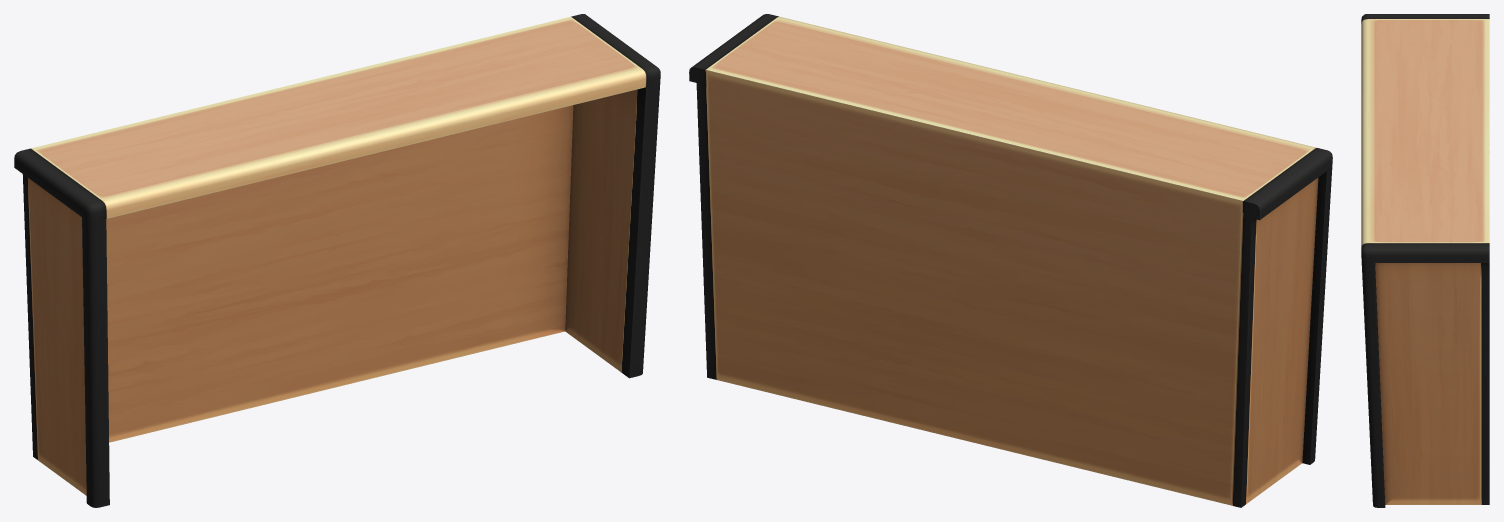
File: OfficeOperationsDesk01_1.FBX
3 renders of one model, left to right at view 1: azimuth 30°, elevation 25°; view 2: azimuth 150°, elevation 25°; view 3: azimuth 270°, elevation 25°, orthographic. The views are drawn at different scales.
Parts seen in each view (by area): view 1: OfficeOperationsDesk01_1; view 2: OfficeOperationsDesk01_1; view 3: OfficeOperationsDesk01_1.
Boxes of the visible parts, x1,y1,x2,y2 form: OfficeOperationsDesk01_1: [14, 14, 660, 507]; OfficeOperationsDesk01_1: [689, 14, 1332, 507]; OfficeOperationsDesk01_1: [1361, 14, 1489, 507].
Size of what is drawn, in the model's own units: 1.75 by 0.9 by 0.3992.
